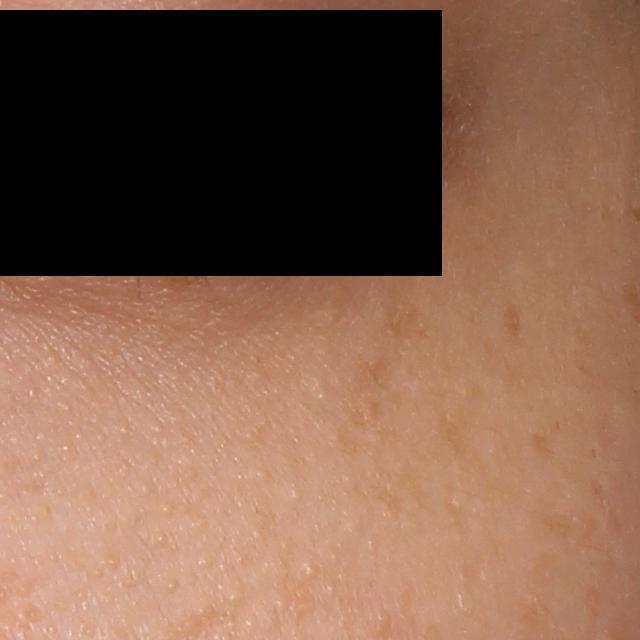comedo: (301, 562, 318, 580)
melasma: (374, 285, 430, 349), (429, 402, 476, 467), (350, 352, 398, 397), (494, 298, 525, 336)
